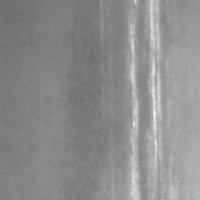scratches: (147, 1, 167, 199), (128, 23, 143, 199)
